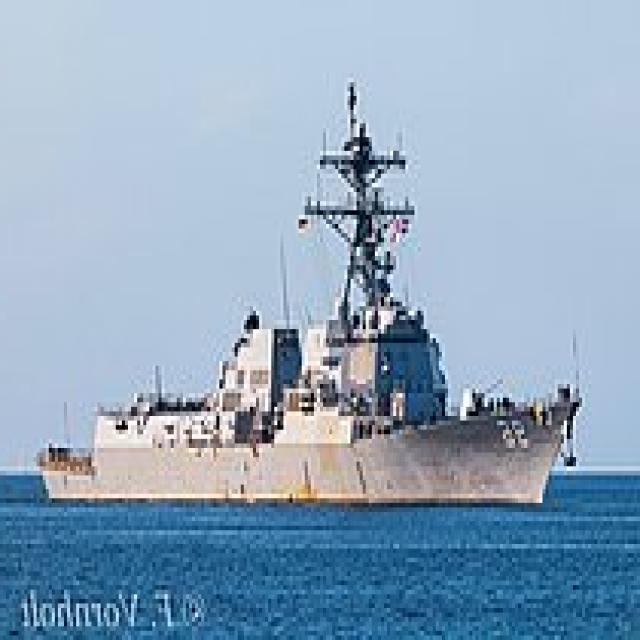Warship: (40, 73, 588, 503)
